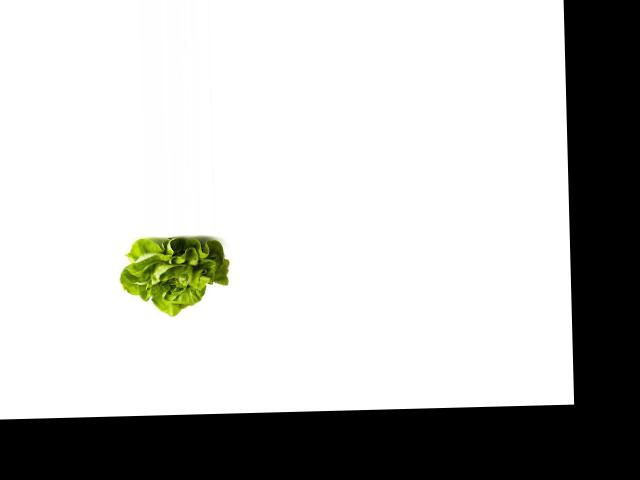lettuce: (115, 234, 232, 316)
